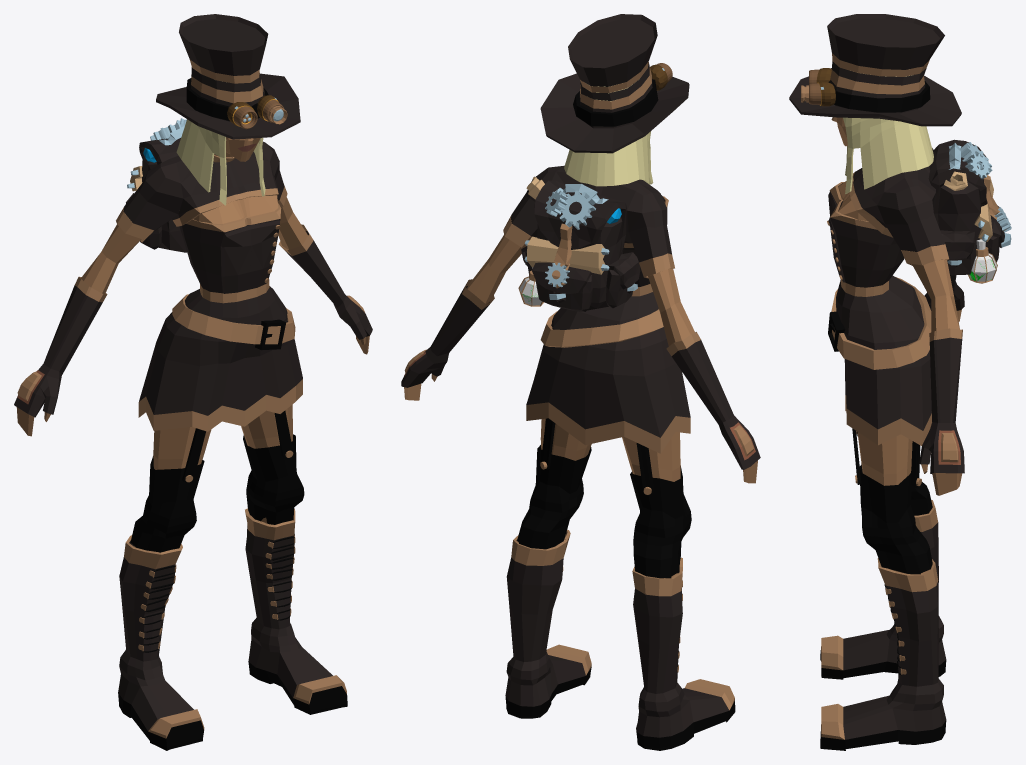
Rendered from LPC_STP_Female_001_(srasmussen).fbx.
3 renders of one model, left to right at view 1: azimuth 30°, elevation 25°; view 2: azimuth 150°, elevation 25°; view 3: azimuth 270°, elevation 25°, orthographic.
Visible parts, largest first — view 1: (STP)_Skirt, (STP)_Boots, STP_Top_Hat, (STP)_Shawl, LP_Woman, (STP)_Stockings, (STP)_Wrist_Guard, LP_Hair, STP_Backback, STP_Top_Band; view 2: (STP)_Boots, (STP)_Skirt, STP_Top_Hat, STP_Backback, (STP)_Stockings, (STP)_Shawl, (STP)_Wrist_Guard, LP_Woman, LP_Hair, STP_Top_Band; view 3: (STP)_Skirt, (STP)_Boots, STP_Top_Hat, STP_Backback, (STP)_Shawl, (STP)_Stockings, LP_Woman, (STP)_Wrist_Guard, LP_Hair, STP_Top_Band, STP_Potion, (STP)_Buckle.
Boxes of the visible parts, x1,y1,x2,y2 form: (STP)_Skirt: (138, 203, 302, 431); (STP)_Boots: (118, 508, 347, 750); STP_Top_Hat: (156, 14, 300, 139); (STP)_Shawl: (116, 141, 295, 652); LP_Woman: (16, 137, 369, 547); (STP)_Stockings: (130, 434, 304, 552); (STP)_Wrist_Guard: (14, 224, 372, 417); LP_Hair: (176, 119, 265, 205); STP_Backback: (126, 118, 186, 252); STP_Top_Band: (186, 78, 268, 120); (STP)_Boots: (505, 530, 735, 750); (STP)_Skirt: (526, 196, 690, 453); STP_Top_Hat: (540, 14, 689, 153); STP_Backback: (521, 176, 639, 311); (STP)_Stockings: (517, 445, 691, 578); (STP)_Shawl: (503, 165, 682, 672); (STP)_Wrist_Guard: (401, 279, 760, 469); LP_Woman: (404, 203, 757, 577); LP_Hair: (564, 83, 653, 186); STP_Top_Band: (573, 79, 658, 126); (STP)_Skirt: (827, 182, 931, 445); (STP)_Boots: (820, 500, 946, 750); STP_Top_Hat: (789, 14, 961, 126); STP_Backback: (928, 139, 1011, 275); (STP)_Shawl: (850, 148, 948, 675); (STP)_Stockings: (859, 464, 932, 574); LP_Woman: (831, 117, 962, 574); (STP)_Wrist_Guard: (919, 275, 964, 473); LP_Hair: (843, 75, 933, 193); STP_Top_Band: (828, 81, 930, 112); STP_Potion: (968, 239, 997, 283); (STP)_Buckle: (828, 311, 845, 351).
Size of the model in its own units: 239 by 444 by 132.
Materials: 5 (2 with a texture image).
